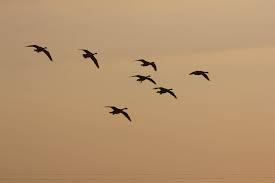bird: (16, 37, 53, 65), (71, 41, 103, 73), (98, 102, 136, 126), (132, 54, 159, 72), (183, 66, 213, 82)
